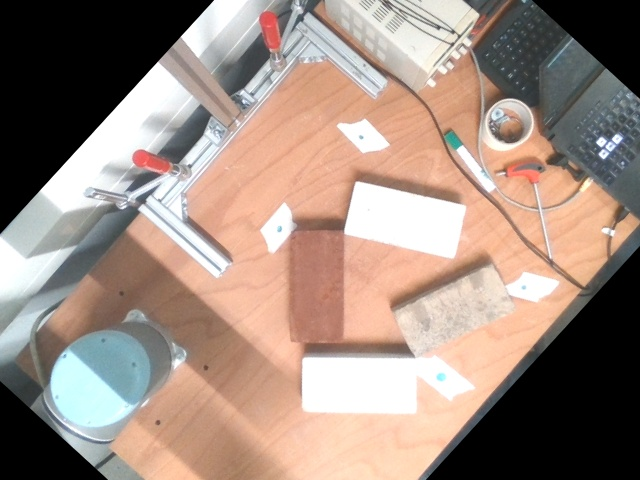brick: (395, 265, 519, 360), (343, 180, 466, 260), (302, 357, 416, 412), (291, 232, 342, 341)
